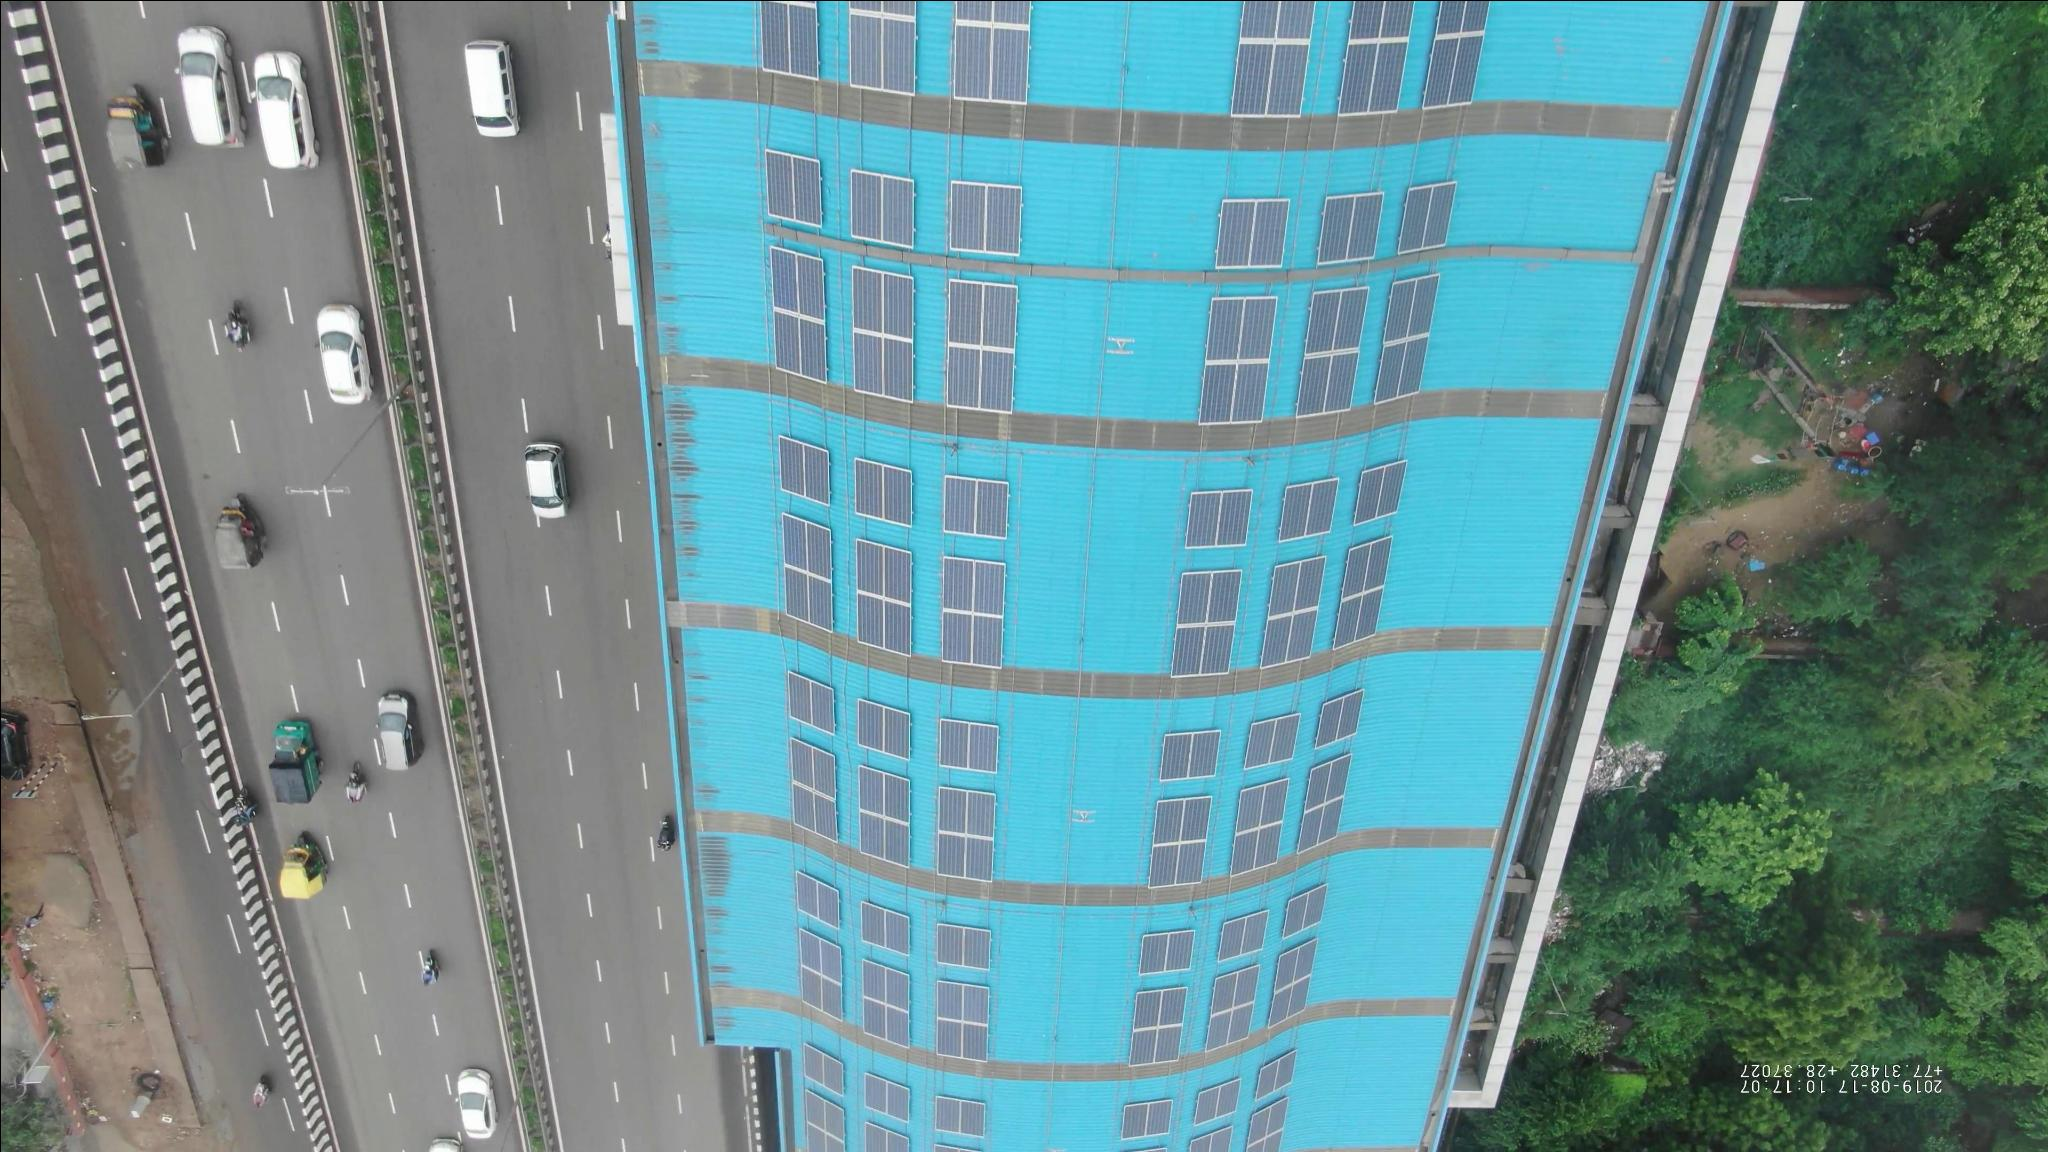Waterlogging: (72, 641, 162, 802)
